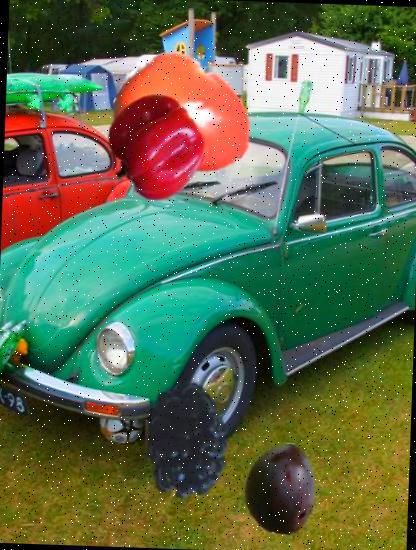Kaki: (113, 45, 258, 190)
Mulberry: (127, 374, 261, 508)
Pepper: (102, 93, 210, 202)
Plum: (233, 441, 328, 536)
